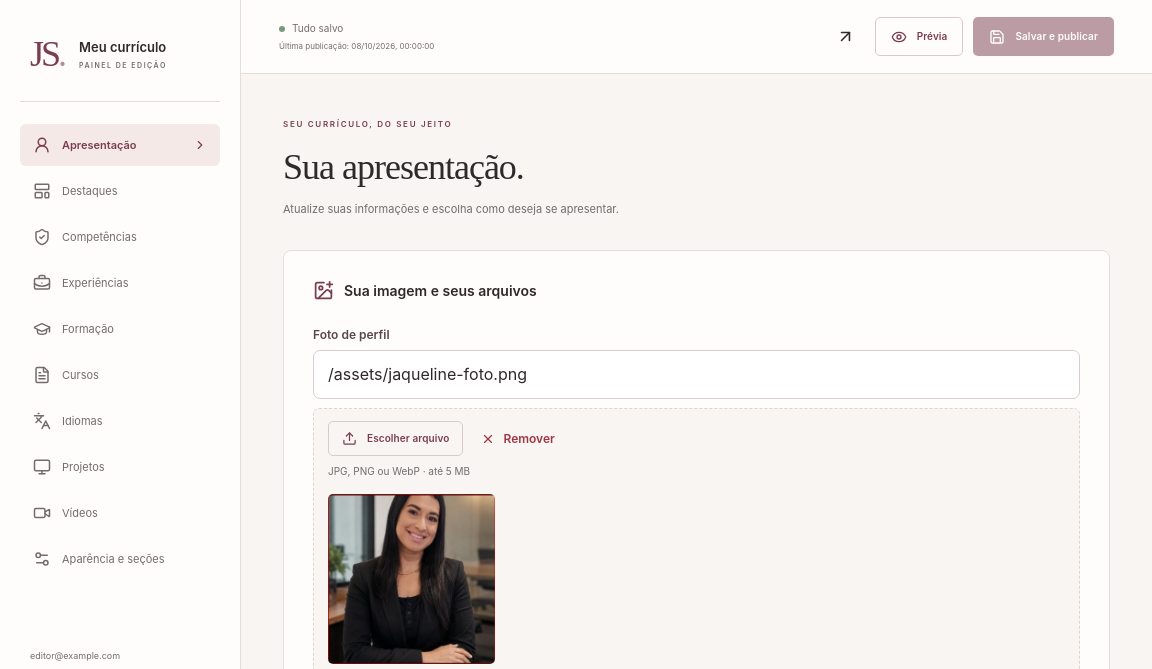
Public presentation and real editing actions › validation blocks incomplete new entries and does not publish them
Step 1. Click the button "Vídeos" → x=120, y=513, box [20,492,220,534]
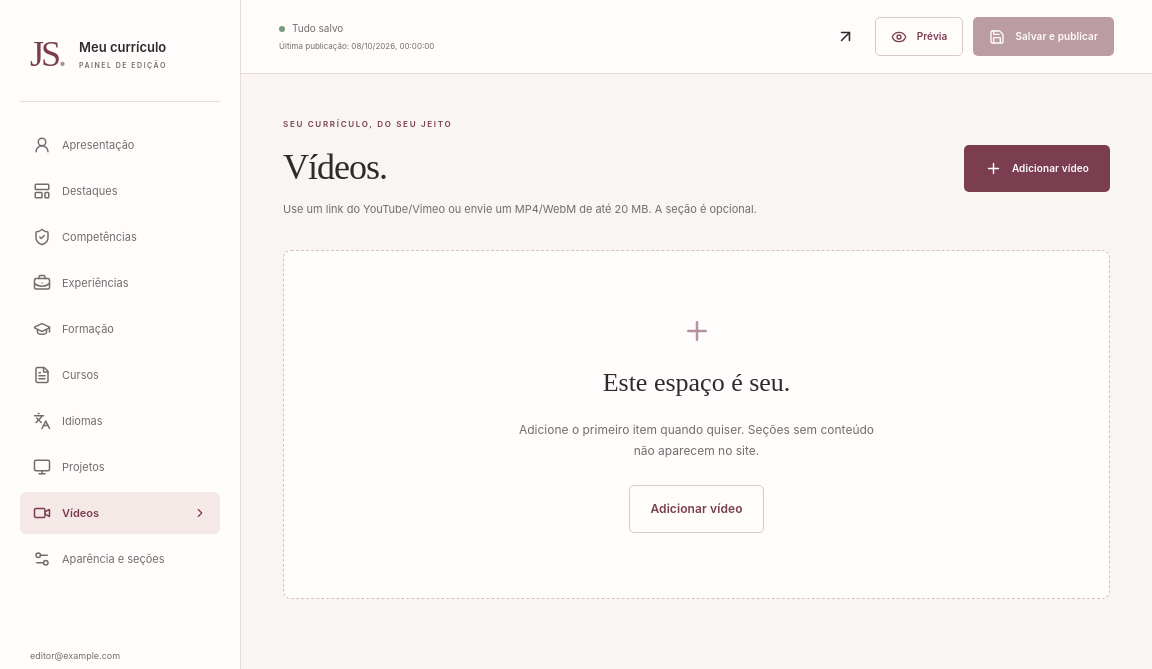
Step 2. Click the button "Adicionar vídeo" in the row of "Vídeos." → x=1037, y=168, box [964,145,1110,192]
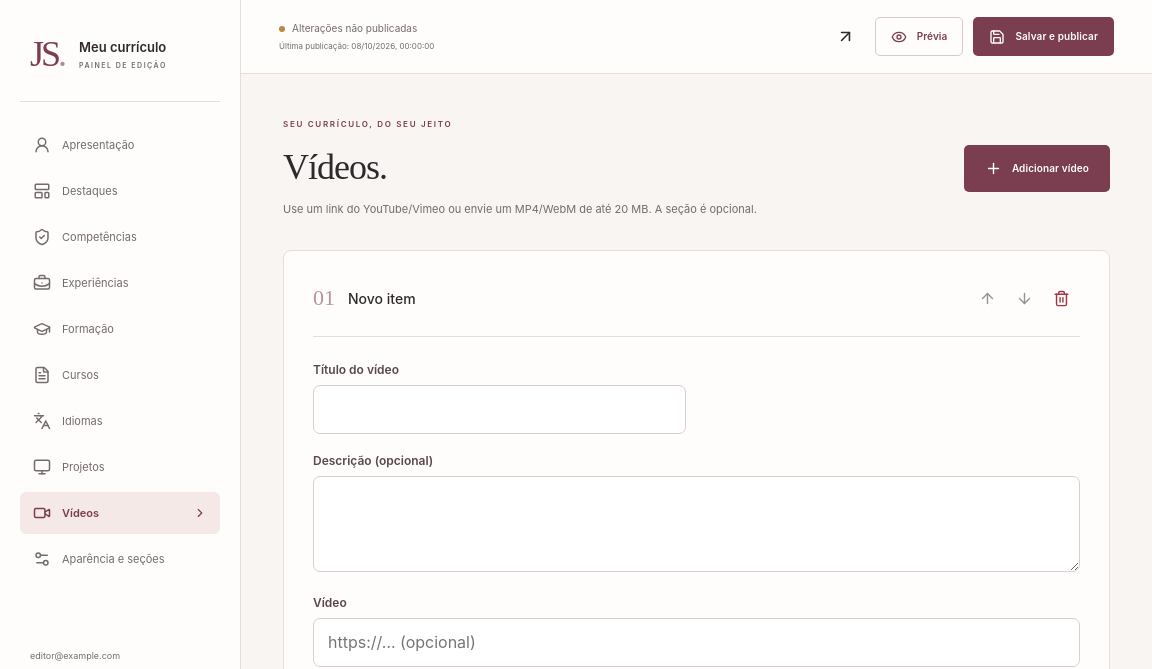
Step 3. Click the button "Salvar e publicar" → x=1044, y=36, box [973,17,1114,56]
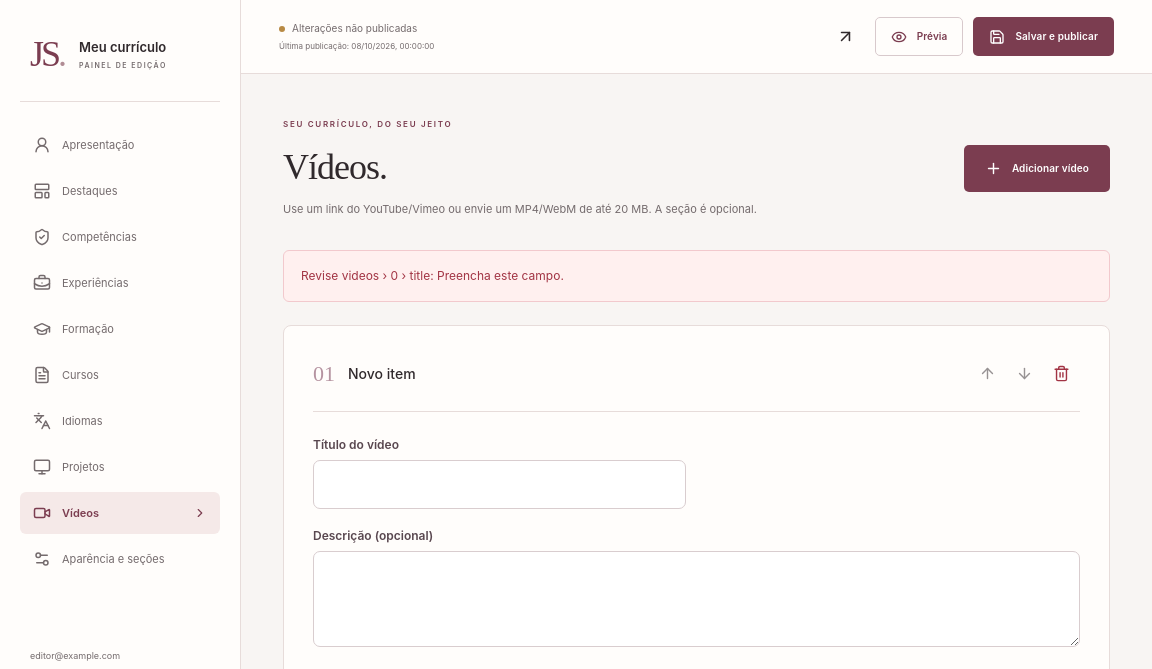
Expected: the message shows "Revise videos", [301,268,564,283]
